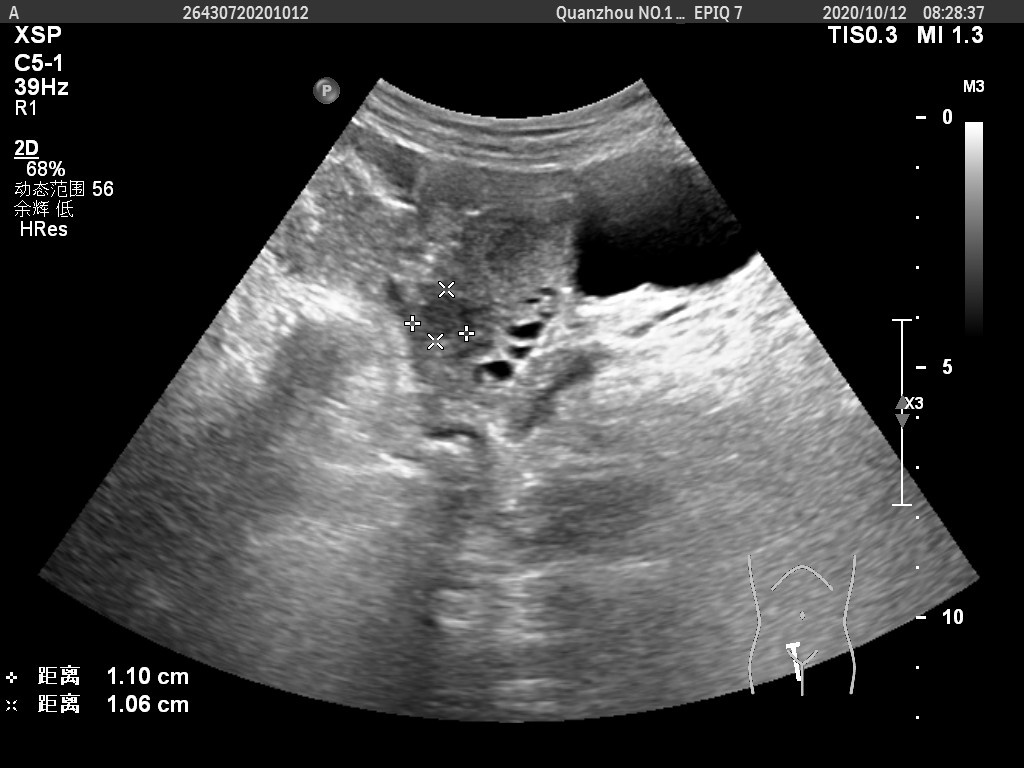肌瘤: (412, 290, 468, 343)
